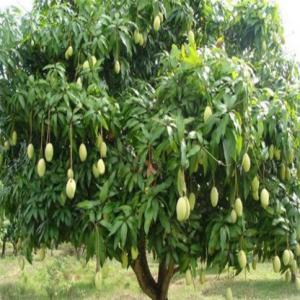Tree: (3, 0, 296, 299)
